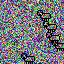sheep: (37, 9, 51, 22), (43, 21, 57, 32), (46, 32, 60, 43), (21, 53, 35, 64), (52, 39, 64, 51)
